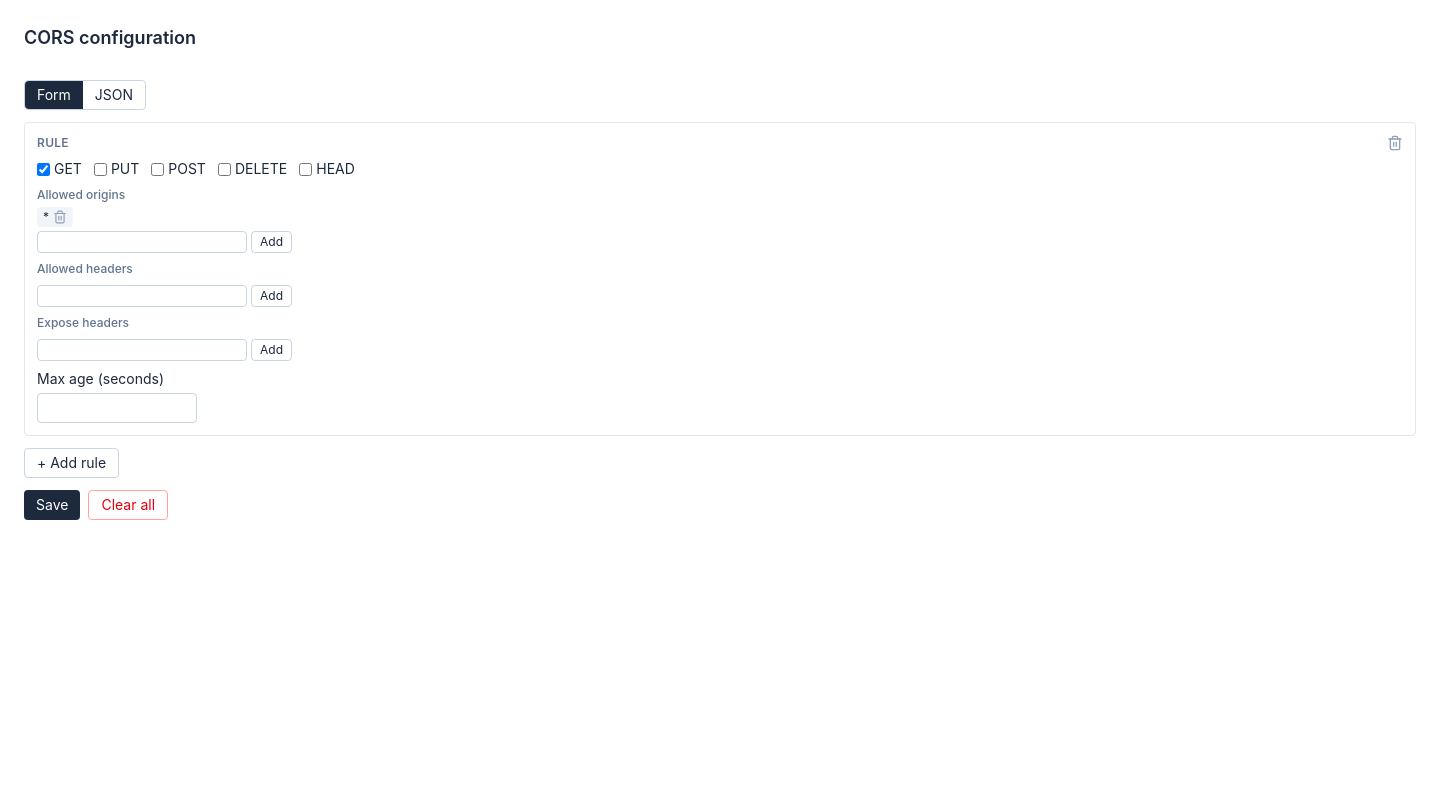
Test: CorsEditor › shows an error toast and preserves edits when Save fails
Expected: the checkbox labelled "GET" is shown, [37, 162, 50, 176]
Click the button "Save": point(52, 505) [24, 490, 80, 520]
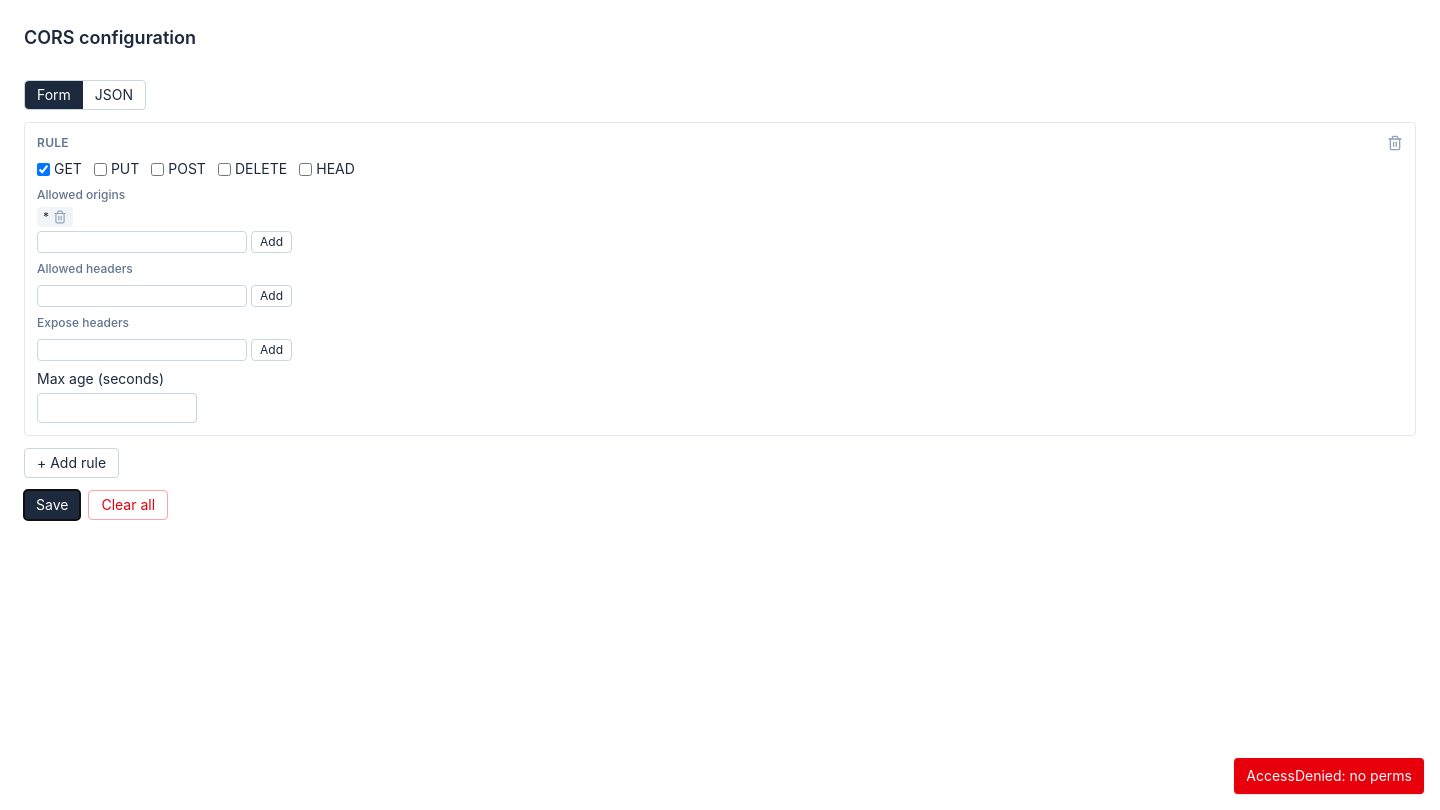
Expected: the checkbox labelled "GET" is shown, [37, 162, 50, 176]
Expected: the text "AccessDenied: no perms" is shown, [1234, 758, 1424, 794]
